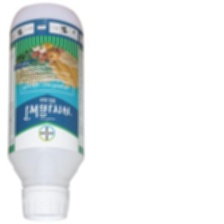insecticide: (7, 2, 86, 224)
